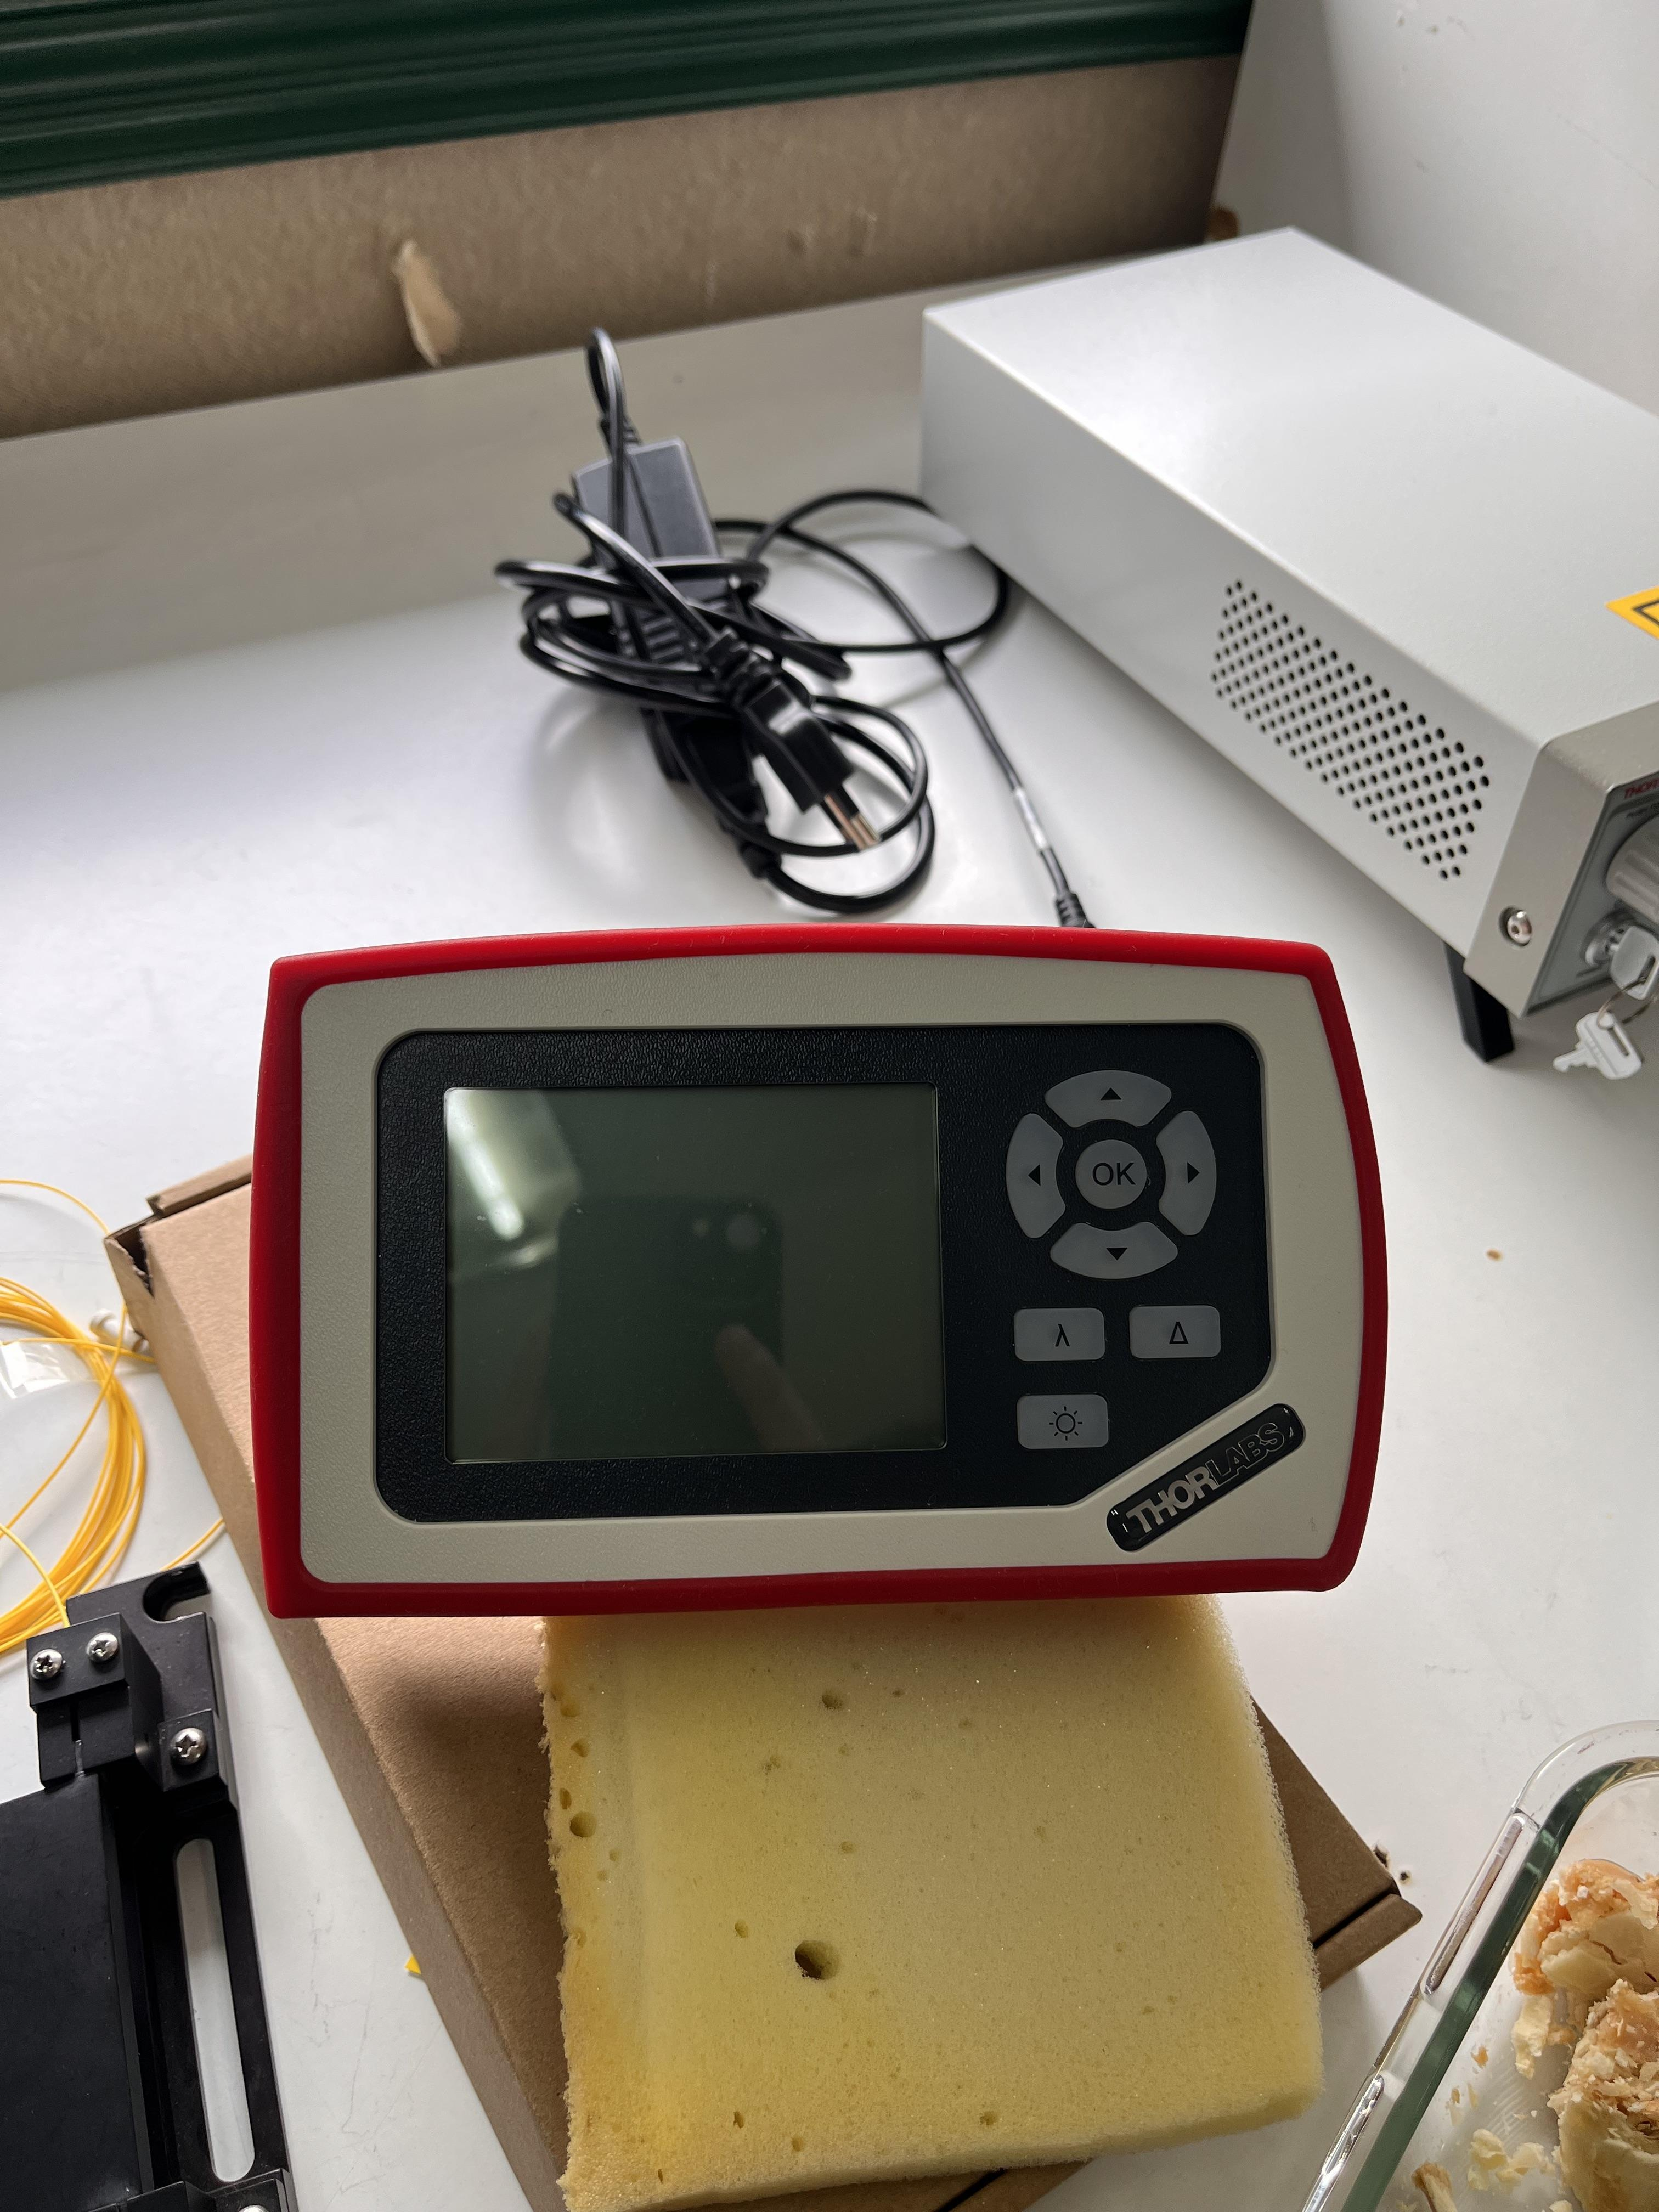powermeter: (247, 927, 1393, 1618)
